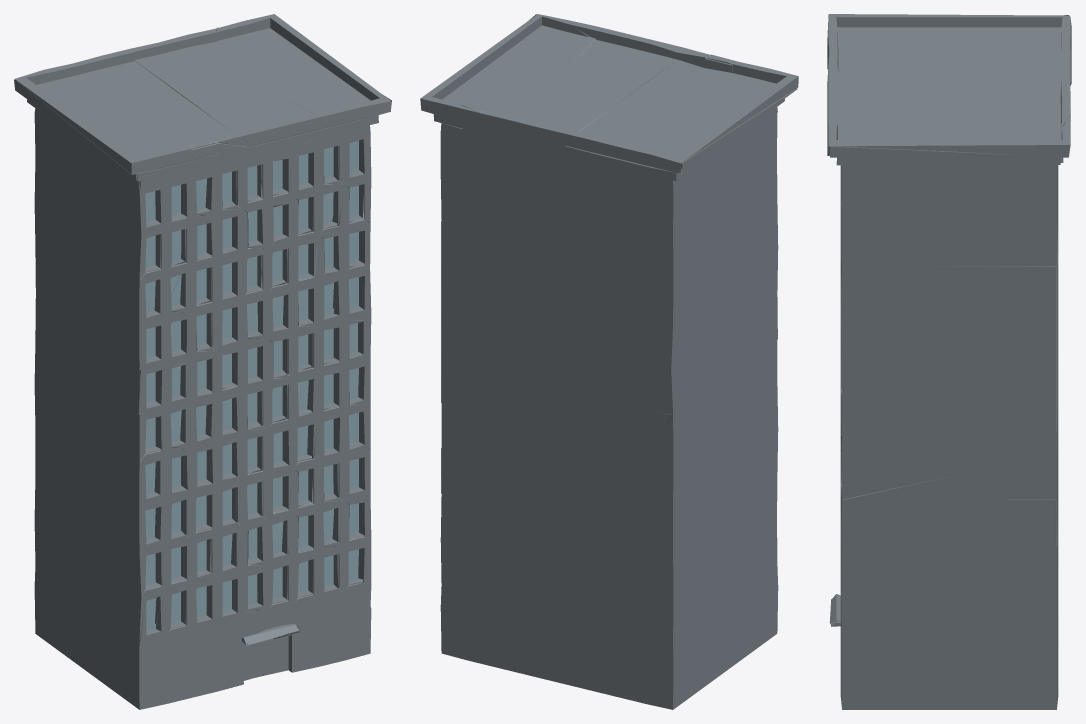
Rendered from building2.fbx.
3 views of the same model, side by side, from view 1: azimuth 30°, elevation 25°; view 2: azimuth 150°, elevation 25°; view 3: azimuth 270°, elevation 25° (orthographic). The views are drawn at different scales.
Visible parts, largest first — view 1: building2_shatter49, building2_shatter55, building2_shatter87, building2_shatter67, building2_shatter28, building2_shatter15, building2_shatter5, building2_shatter11, building2_shatter93, building2_shatter75, building2_shatter46, building2_shatter7 (+63 smaller); view 2: building2_shatter66, building2_shatter51, building2_shatter60, building2_shatter29, building2_shatter71, building2_shatter49, building2_shatter87, building2_shatter55, building2_shatter28, building2_shatter67, building2_shatter53, building2_shatter15 (+12 smaller); view 3: building2_shatter34, building2_shatter26, building2_shatter36, building2_shatter61, building2_shatter50, building2_shatter92, building2_shatter86, building2_shatter11, building2_shatter5, building2_shatter75, building2_shatter93, building2_shatter71 (+4 smaller).
Boxes of the visible parts, x1,y1,x2,y2 form: building2_shatter49: [35, 248, 191, 414]; building2_shatter55: [34, 475, 191, 641]; building2_shatter87: [34, 158, 160, 305]; building2_shatter67: [34, 339, 185, 486]; building2_shatter28: [34, 566, 192, 709]; building2_shatter15: [35, 430, 191, 550]; building2_shatter5: [134, 47, 362, 146]; building2_shatter11: [15, 63, 218, 174]; building2_shatter93: [190, 25, 370, 114]; building2_shatter75: [73, 39, 234, 147]; building2_shatter46: [166, 610, 298, 703]; building2_shatter7: [243, 605, 344, 683]; building2_shatter66: [518, 312, 671, 583]; building2_shatter51: [442, 134, 569, 358]; building2_shatter60: [518, 176, 645, 389]; building2_shatter29: [467, 468, 594, 631]; building2_shatter71: [441, 287, 543, 494]; building2_shatter49: [646, 203, 778, 414]; building2_shatter87: [595, 113, 777, 362]; building2_shatter55: [645, 475, 777, 641]; building2_shatter28: [595, 566, 778, 709]; building2_shatter67: [620, 340, 777, 583]; building2_shatter53: [467, 578, 645, 691]; building2_shatter15: [620, 384, 778, 590]; building2_shatter34: [840, 266, 1055, 405]; building2_shatter26: [840, 539, 1058, 660]; building2_shatter36: [840, 165, 1058, 265]; building2_shatter61: [840, 584, 1058, 709]; building2_shatter50: [840, 348, 1055, 452]; building2_shatter92: [840, 407, 1055, 499]; building2_shatter86: [840, 499, 1055, 563]; building2_shatter11: [827, 14, 1071, 69]; building2_shatter5: [827, 44, 1060, 139]; building2_shatter75: [836, 41, 1071, 106]; building2_shatter93: [837, 108, 1068, 139]; building2_shatter71: [843, 405, 1058, 545].
Size of the model in its own units: 12.37 by 25.06 by 9.67.
